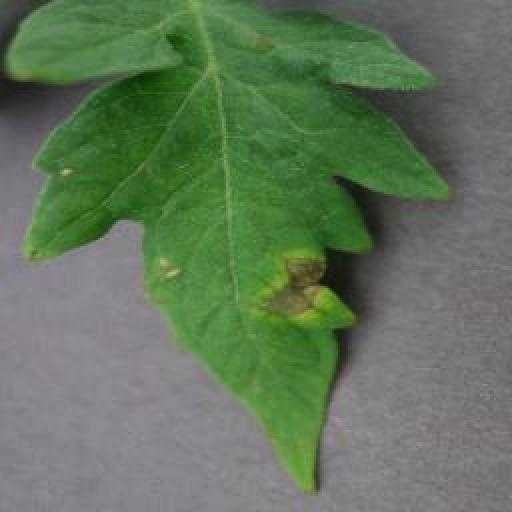disease_tomato: (6, 0, 454, 498)
